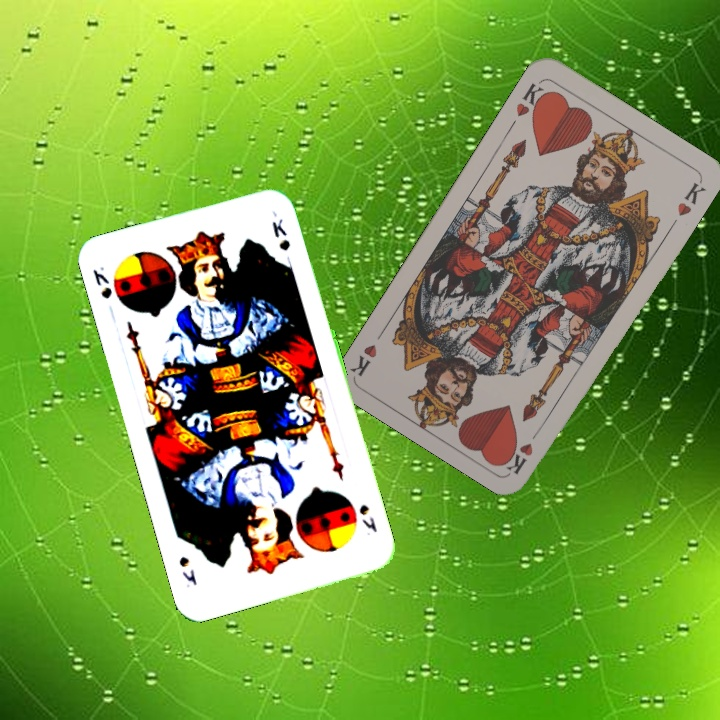HK: (503, 421, 544, 477), (511, 77, 552, 121)
SK: (88, 262, 115, 302), (355, 500, 380, 535)
